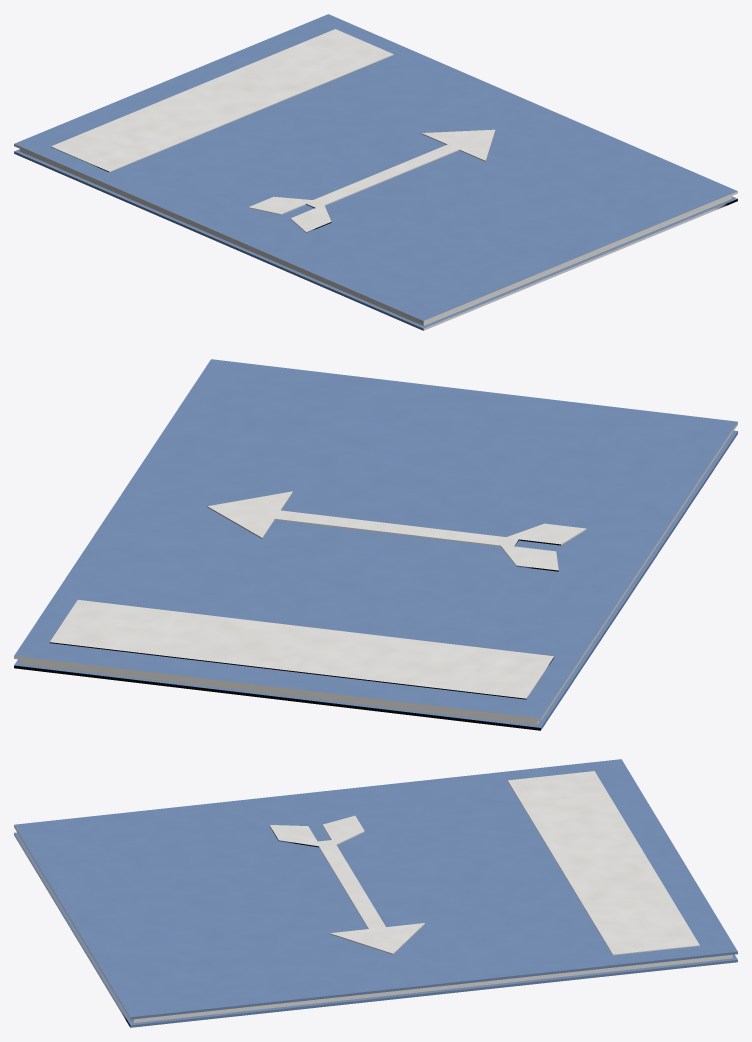
The model's file is FL_ArcheryMag3.fbx.
3 views of the same model, one above another, from view 1: azimuth 30°, elevation 25°; view 2: azimuth 150°, elevation 25°; view 3: azimuth 270°, elevation 25° (orthographic). The views are drawn at different scales.
Visible parts, largest first — view 1: FL_ArcheryMag3; view 2: FL_ArcheryMag3; view 3: FL_ArcheryMag3.
Part boxes in pixels (left/top/right/bottom): FL_ArcheryMag3: left=14, top=14, right=737, bottom=330; FL_ArcheryMag3: left=14, top=359, right=737, bottom=730; FL_ArcheryMag3: left=14, top=759, right=737, bottom=1027.
Size of the model in its own units: 0.0227 by 0.000475 by 0.0269.
